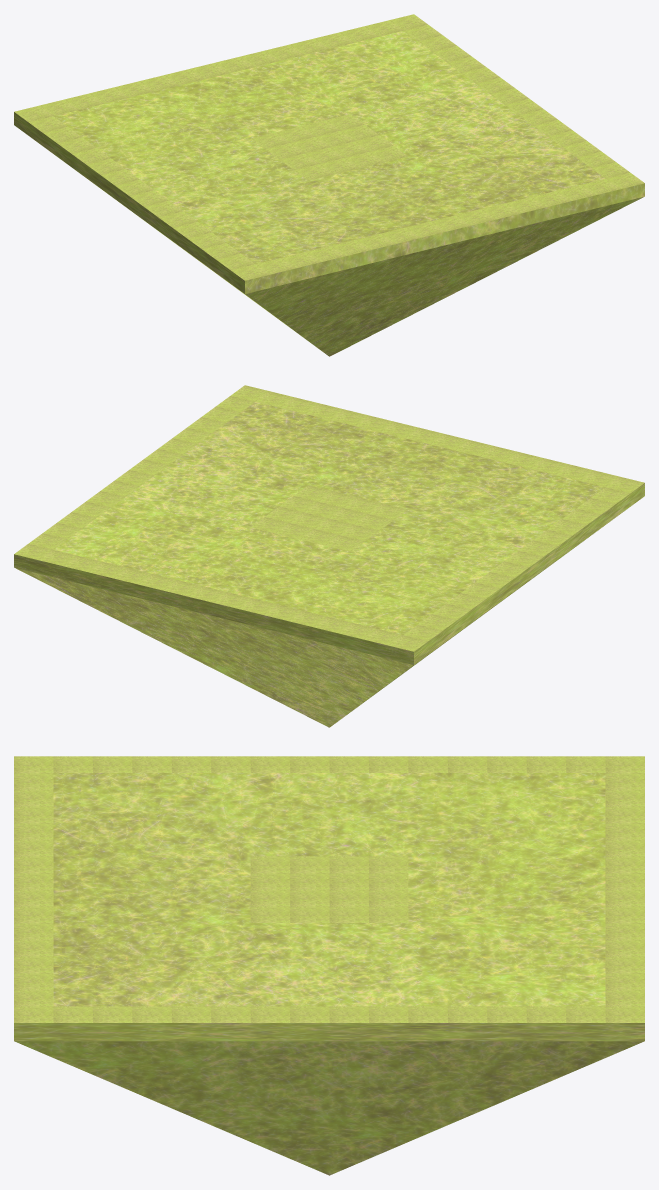
The model's file is floorDebug2.glb.
The picture shows the model from 3 angles, top to bottom: view 1: azimuth 30°, elevation 25°; view 2: azimuth 150°, elevation 25°; view 3: azimuth 270°, elevation 25°; orthographic projection. The views are drawn at different scales.
Visible parts, largest first — view 1: Cone; view 2: Cone; view 3: Cone.
Part boxes in pixels (bbox=[...]): Cone: bbox=[14, 14, 644, 356]; Cone: bbox=[14, 385, 644, 727]; Cone: bbox=[14, 756, 644, 1175].
Size of the model in its own units: 24 by 12 by 24.
1 material, 1 textured.
